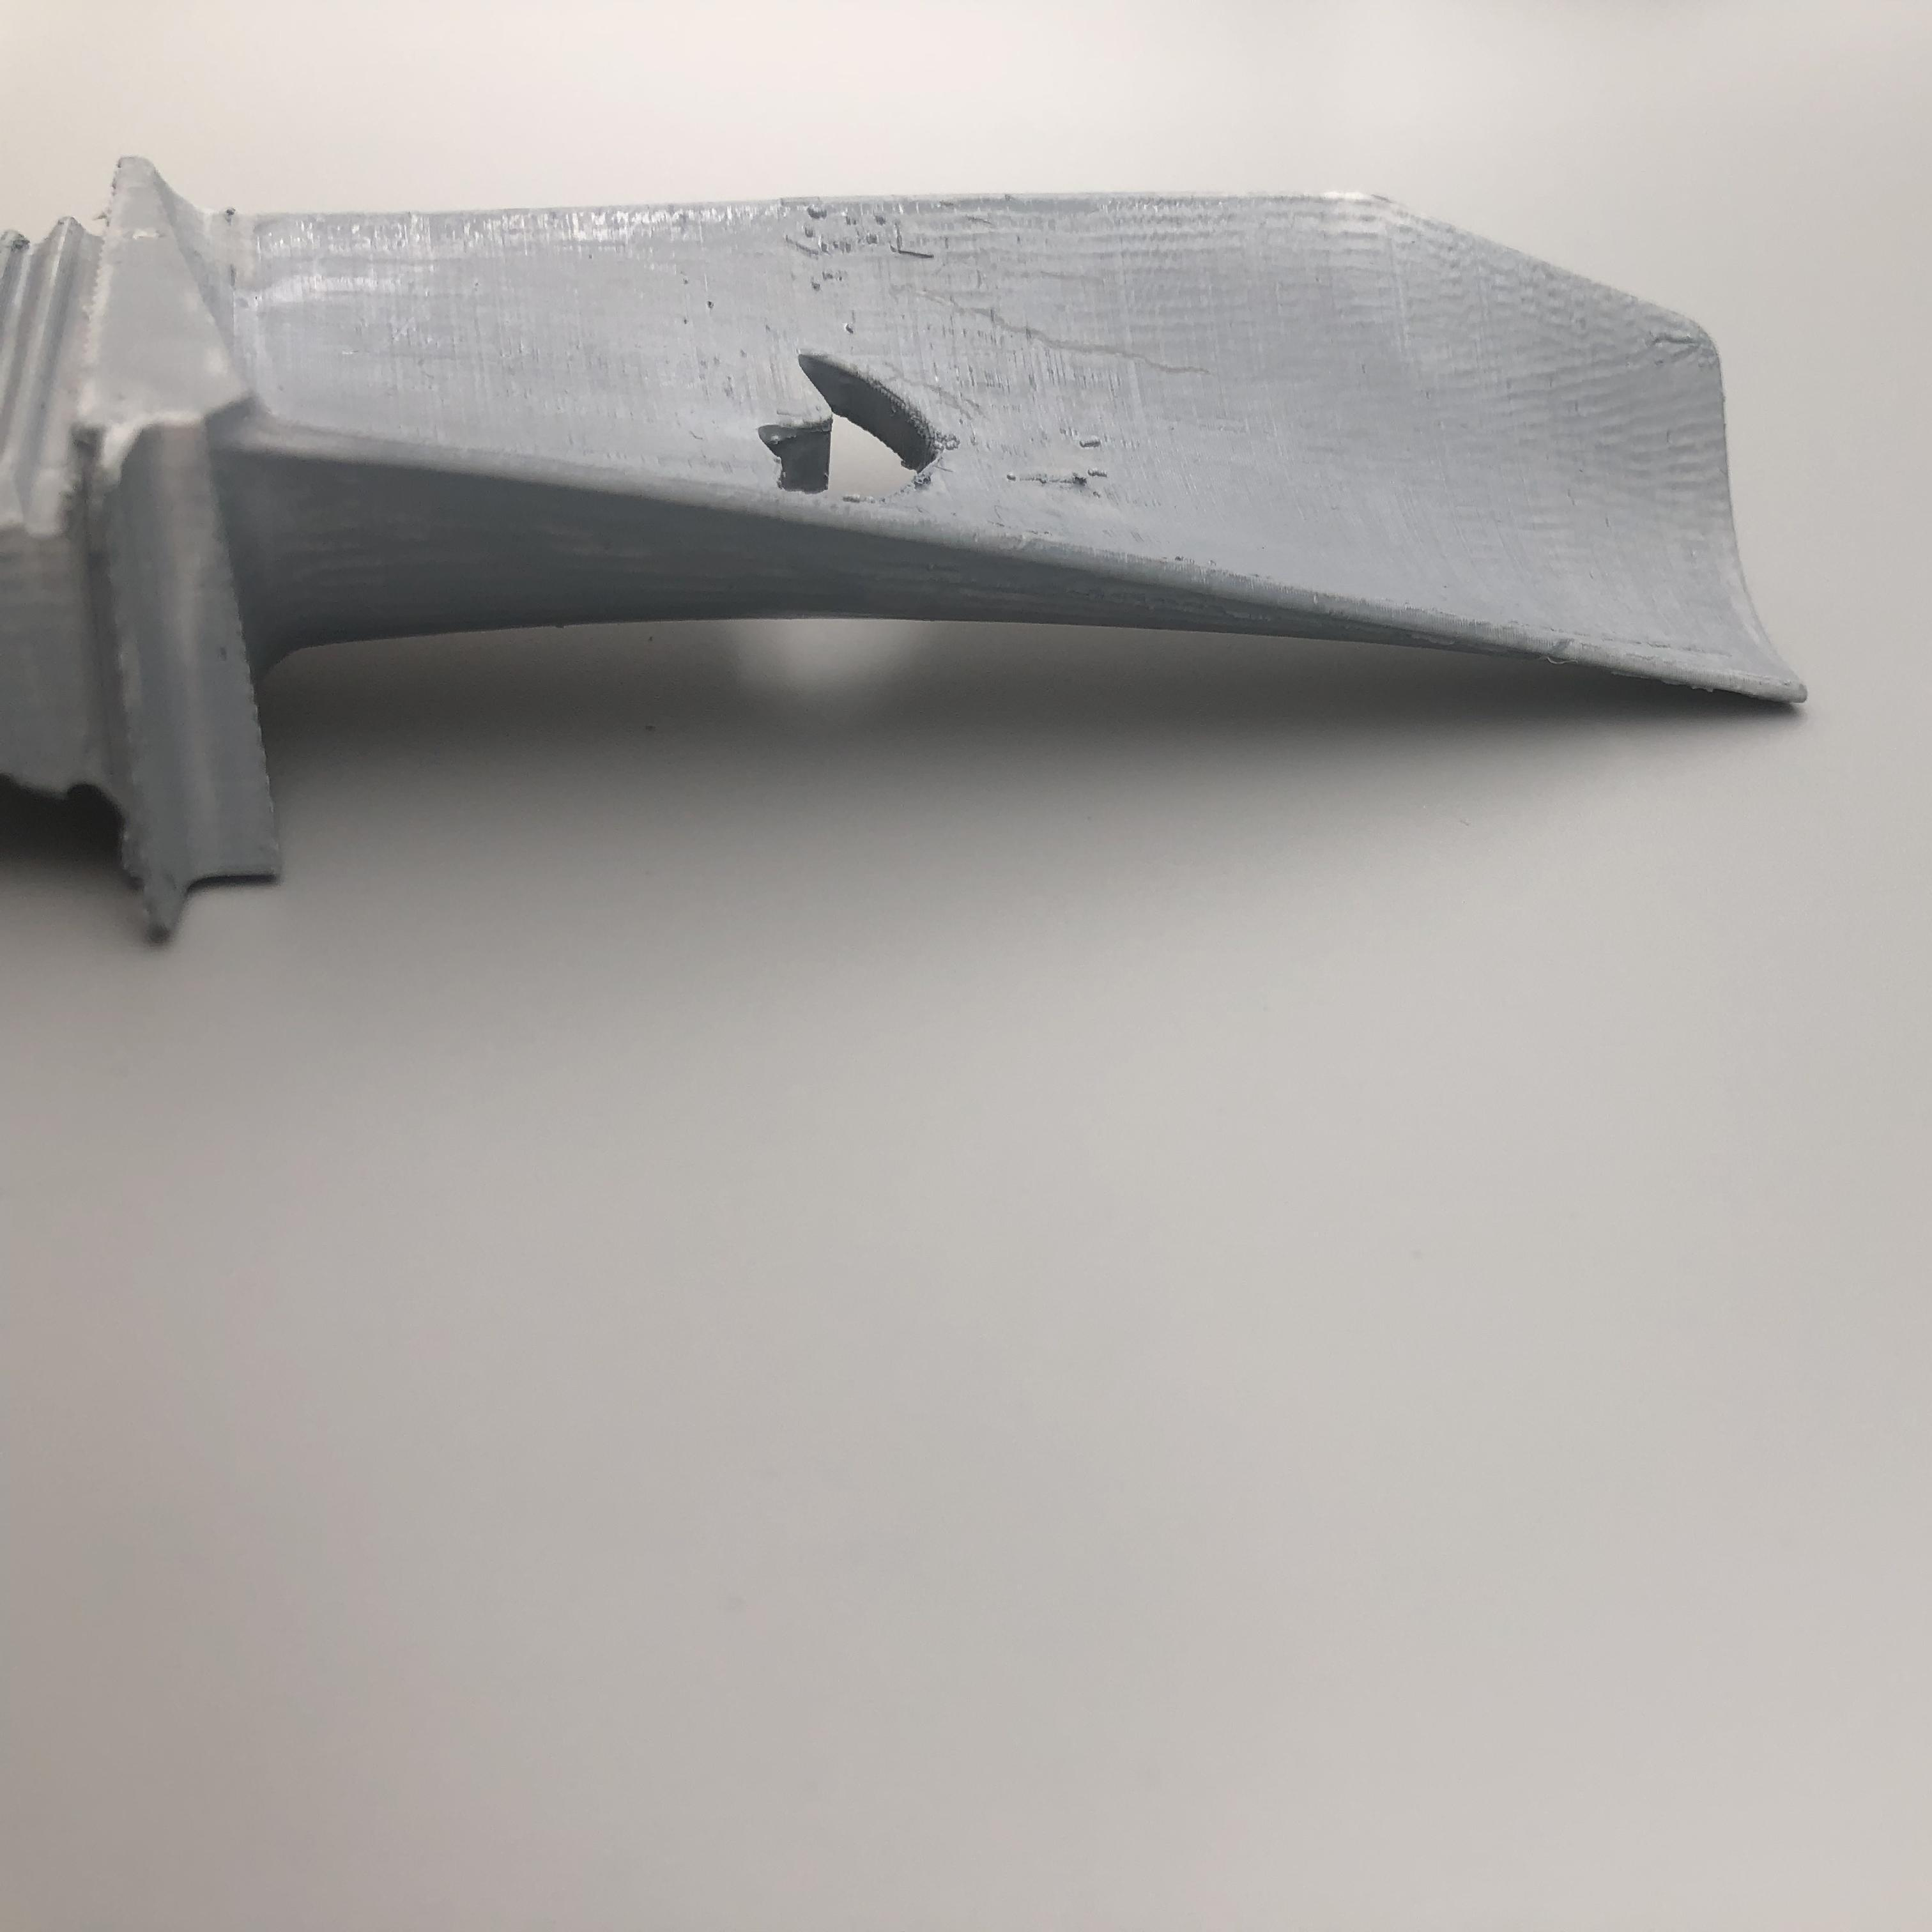breakdown: (754, 334, 977, 520)
